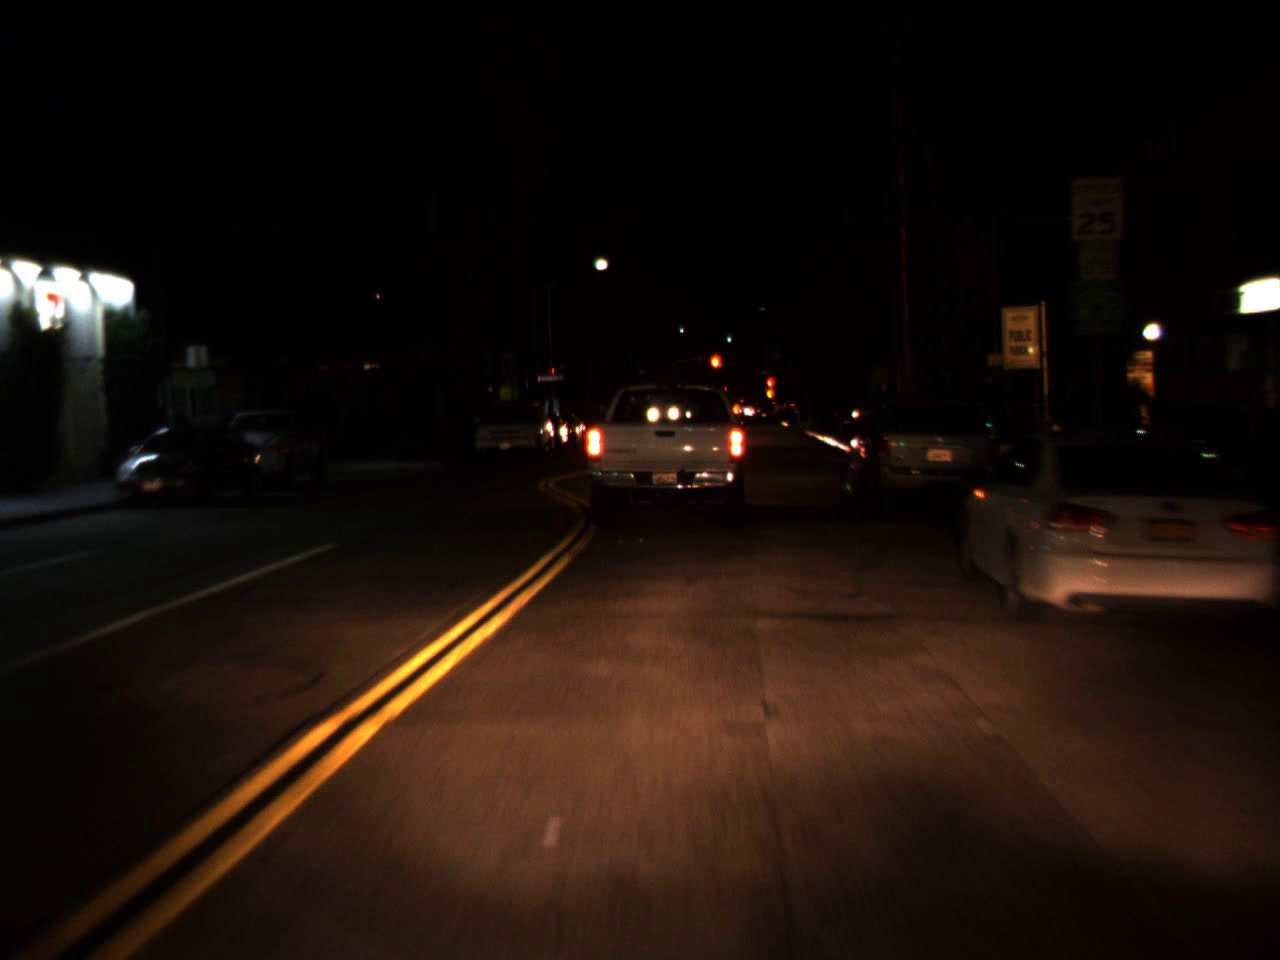stop: (708, 353, 723, 385), (764, 375, 776, 399)
